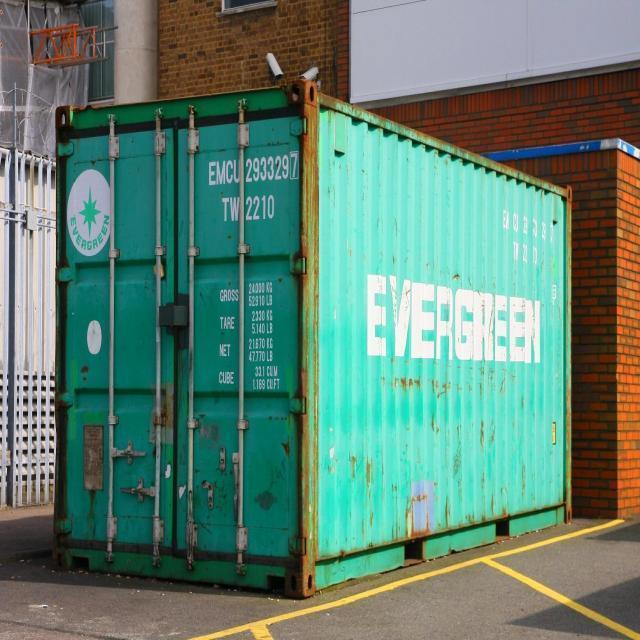ISO: (213, 190, 281, 226)
container_number: (204, 154, 304, 183)
